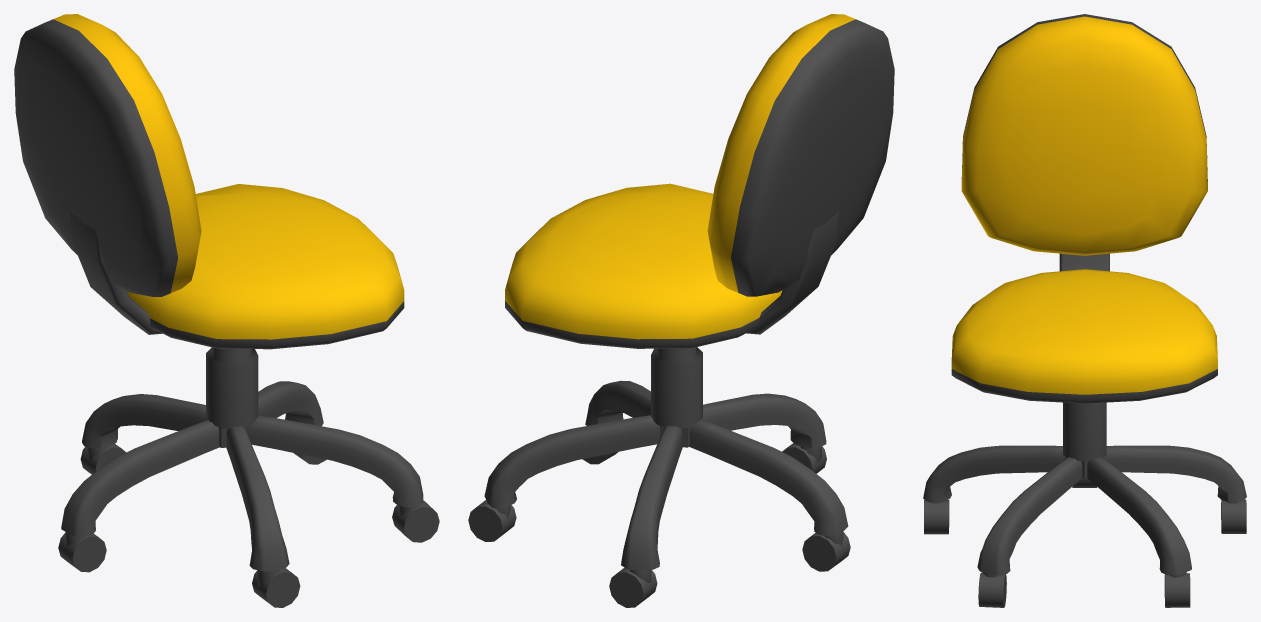
The model's file is SM_chair.fbx.
The picture shows the model from 3 angles, left to right: view 1: azimuth 30°, elevation 25°; view 2: azimuth 150°, elevation 25°; view 3: azimuth 270°, elevation 25°; orthographic projection. The views are drawn at different scales.
Visible parts, largest first — view 1: SM_chair; view 2: SM_chair; view 3: SM_chair.
Boxes of the visible parts, box(x1,y1,x2,y2) form: SM_chair: box(14, 14, 439, 607); SM_chair: box(468, 14, 894, 607); SM_chair: box(923, 14, 1246, 607).
Bounding box in the file's own units: 0.6081 × 0.9764 × 0.6094.
